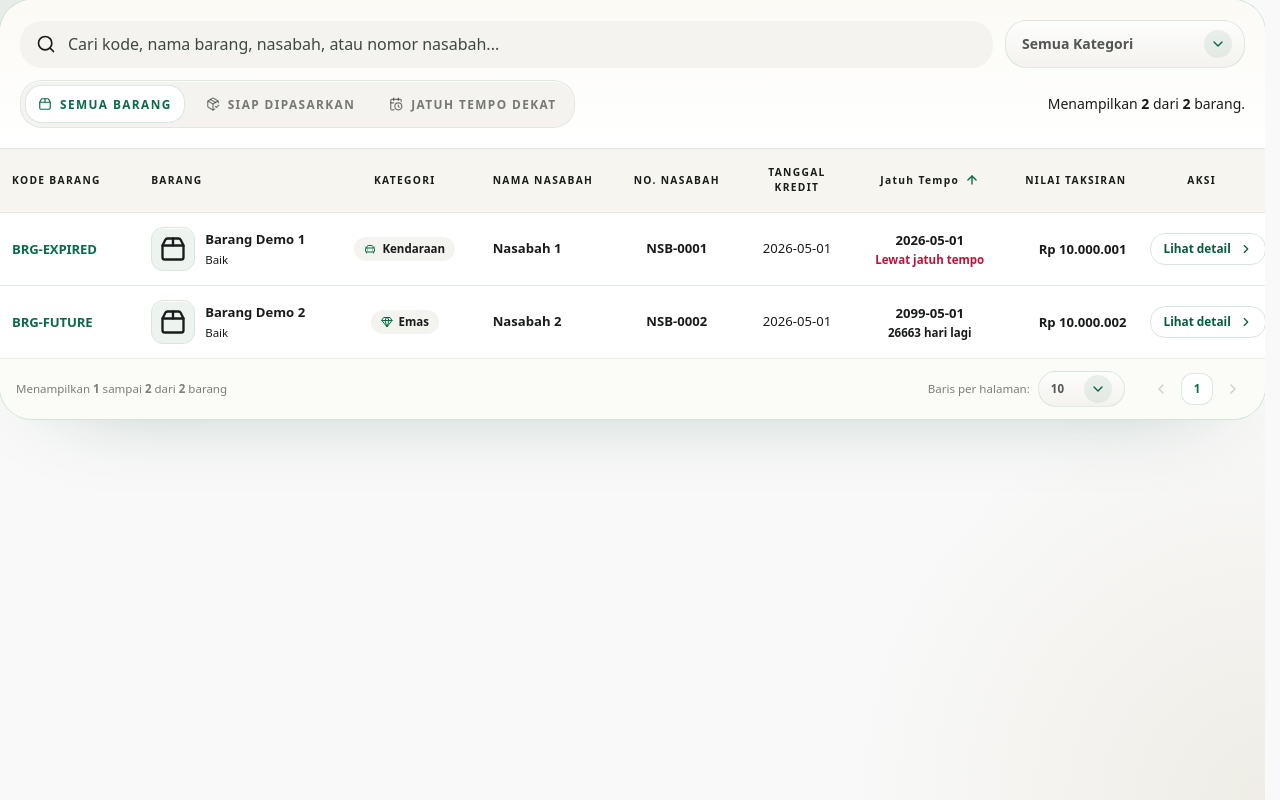
Test: AdminInventoryWorkspace › shows precisely expired collateral as overdue but excludes it from the due-soon filter
Check: the text "Lewat jatuh tempo" is shown, box left=872, top=252, right=987, bottom=268
Click the button "Jatuh Tempo Dekat". click: coordinates (473, 104)
box: left=376, top=85, right=570, bottom=123
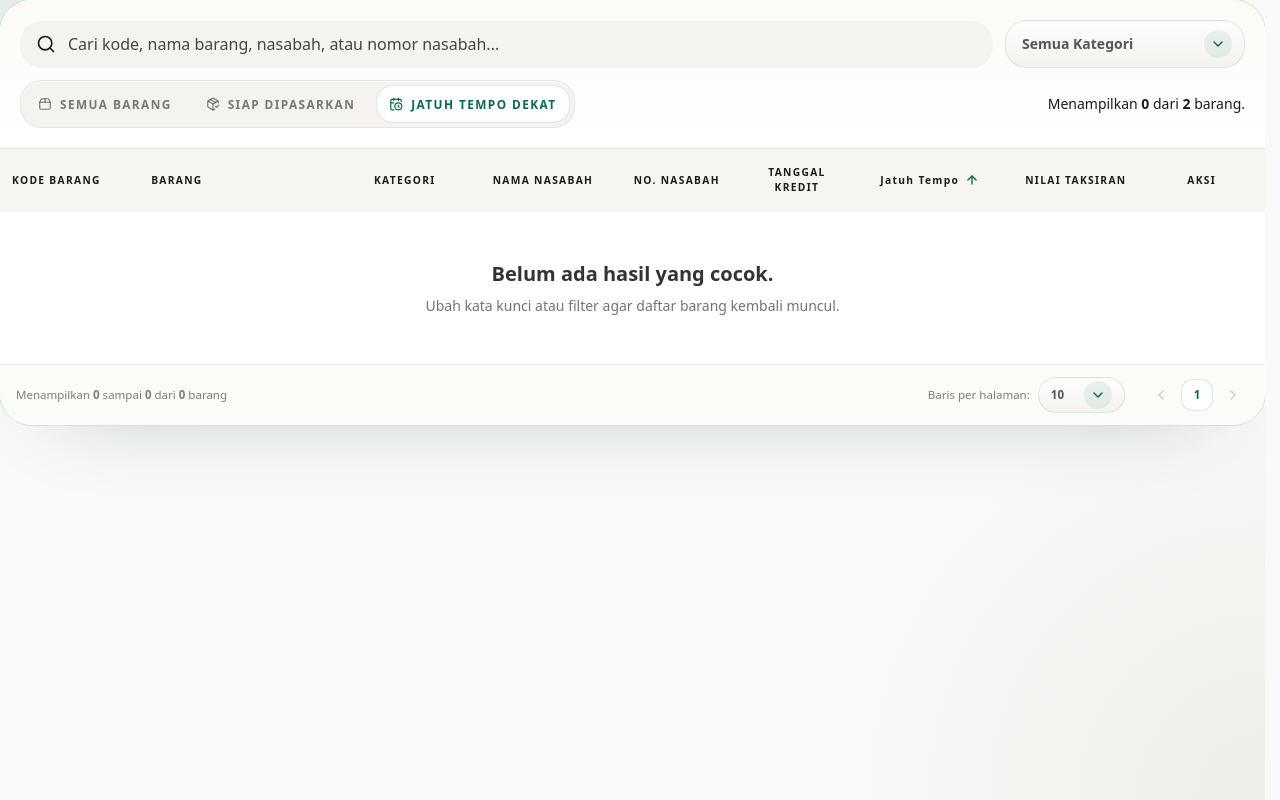
Check: the link "BRG-EXPIRED" is gone
Check: the link "BRG-FUTURE" is gone
